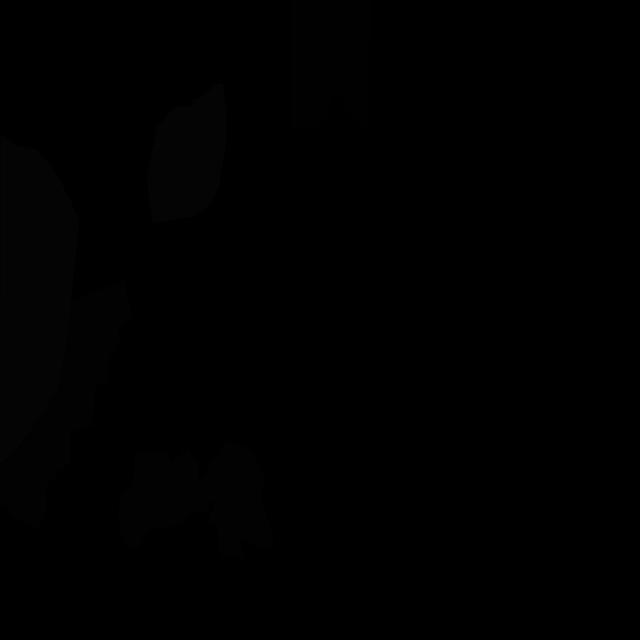cardboard: (0, 279, 132, 529), (117, 441, 274, 559)
rigid_plastic: (290, 0, 372, 131)
soft_plastic: (0, 135, 79, 464), (147, 83, 226, 223)
